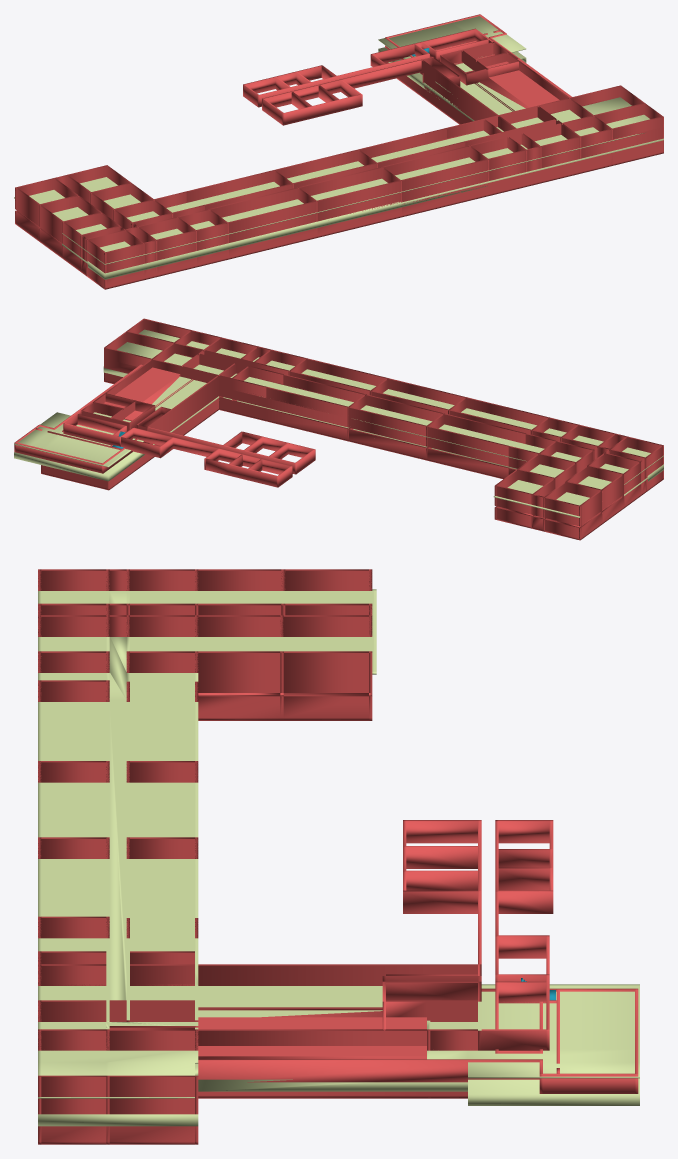
3 renders of one model, top to bottom at view 1: azimuth 30°, elevation 25°; view 2: azimuth 150°, elevation 25°; view 3: azimuth 270°, elevation 25°, orthographic. The views are drawn at different scales.
Visible parts, largest first — view 1: Floor_3, Ceiling_2, Floor_2, Floor_1, Ceiling_1; view 2: Floor_3, Ceiling_2, Floor_2, Floor_1, Ceiling_1; view 3: Floor_3, Ceiling_2, Floor_2, Floor_1, Ceiling_1.
Part boxes in pixels (<box>): Floor_3: <box>15,28,663,263</box>; Ceiling_2: <box>14,16,649,264</box>; Floor_2: <box>15,14,663,273</box>; Floor_1: <box>15,62,663,289</box>; Ceiling_1: <box>62,47,663,279</box>; Floor_3: <box>63,318,663,516</box>; Ceiling_2: <box>14,329,663,517</box>; Floor_2: <box>14,328,663,526</box>; Floor_1: <box>41,372,663,540</box>; Ceiling_1: <box>14,366,663,495</box>; Floor_3: <box>38,569,553,1098</box>; Ceiling_2: <box>38,589,639,1098</box>; Floor_2: <box>38,589,638,1114</box>; Floor_1: <box>38,693,467,1144</box>; Ceiling_1: <box>38,1063,639,1126</box>.
Bounding box in the file's own units: 3521 × 220 × 1765.
